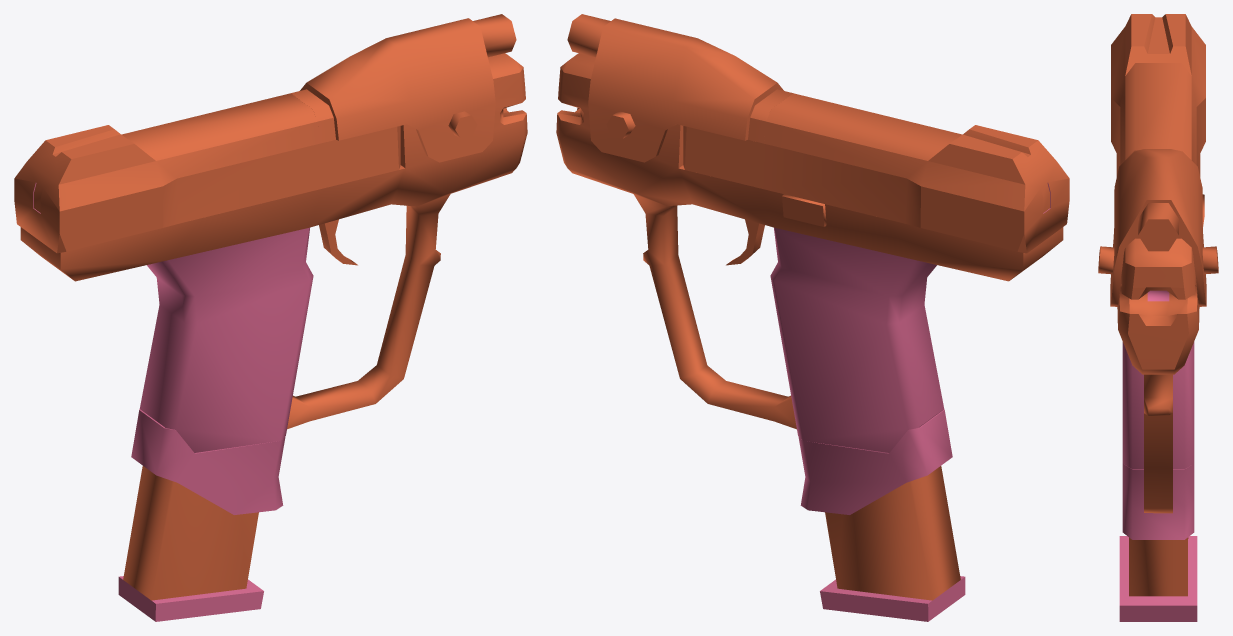
File: magnum.fbx
3 renders of one model, left to right at view 1: azimuth 30°, elevation 25°; view 2: azimuth 150°, elevation 25°; view 3: azimuth 270°, elevation 25°, orthographic. The views are drawn at different scales.
Parts seen in each view (by area): view 1: unnamed base superhigh; view 2: unnamed base superhigh; view 3: unnamed base superhigh.
Boxes of the visible parts, <box> form: unnamed base superhigh: <box>14,14,527,621</box>; unnamed base superhigh: <box>556,14,1069,621</box>; unnamed base superhigh: <box>1098,14,1218,621</box>.
Bounding box in the file's own units: 879 × 911 × 183.
